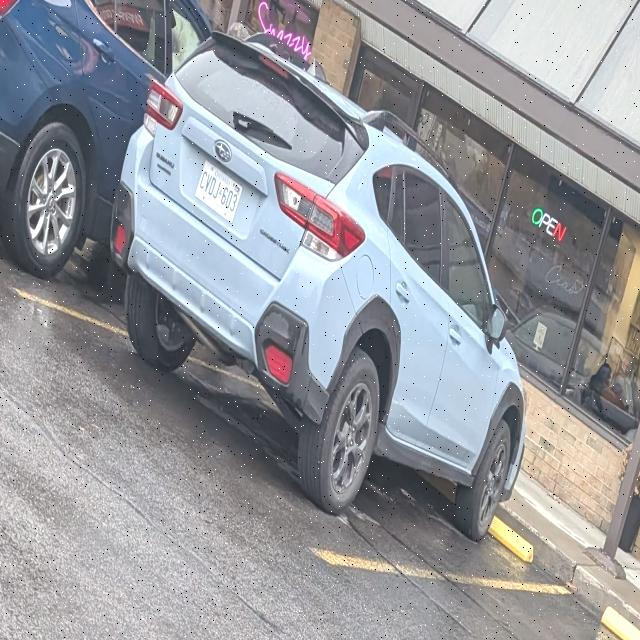plaque: (196, 161, 242, 223)
